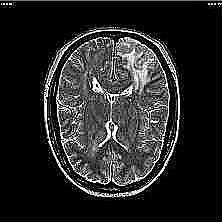Normal_Brain: (23, 5, 215, 222)
